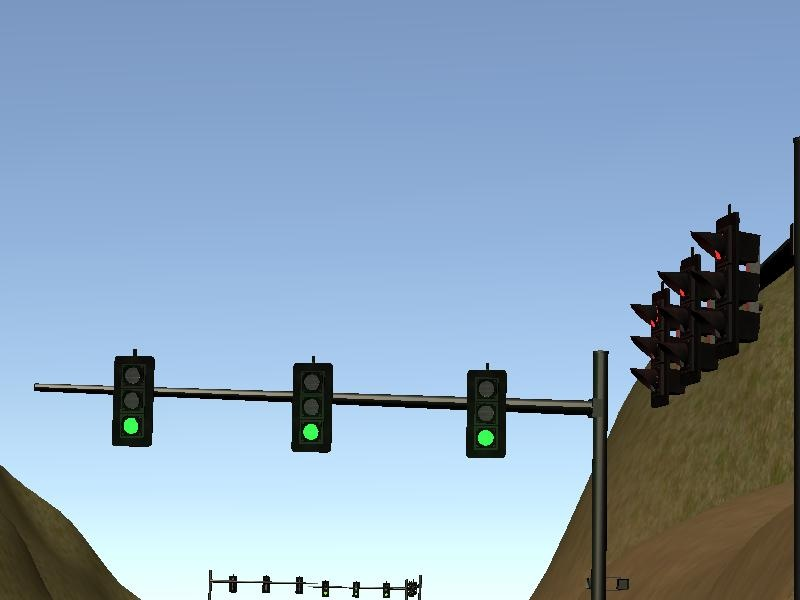green: (288, 354, 337, 455), (109, 349, 158, 449), (463, 364, 511, 464)
